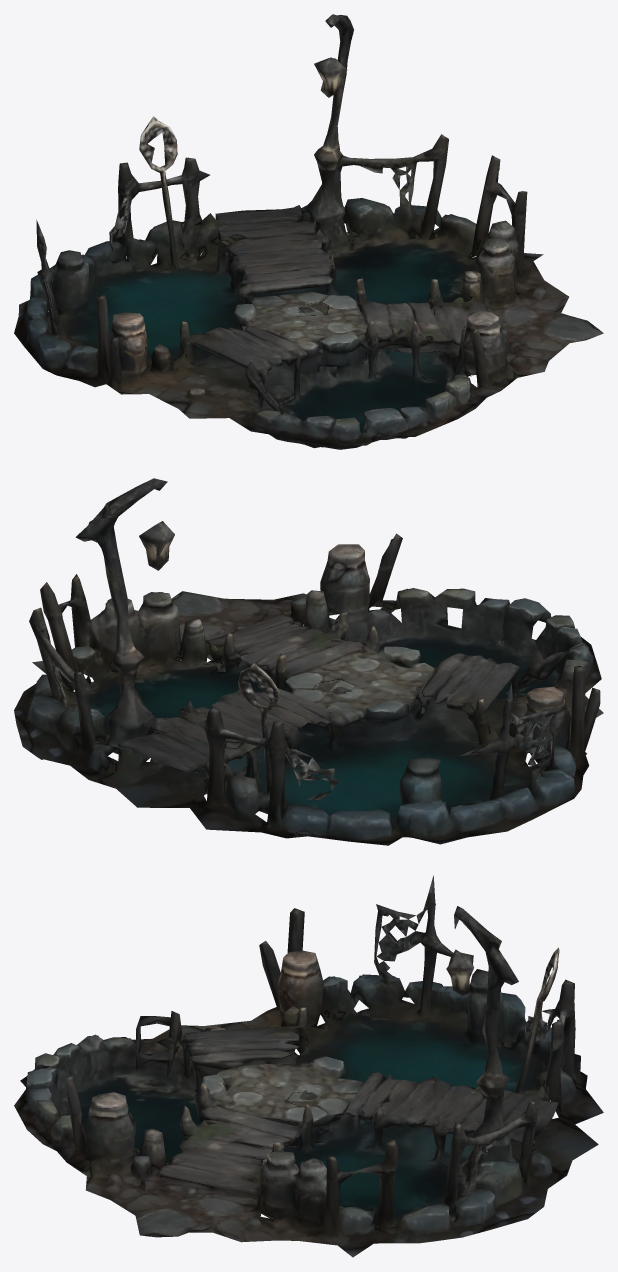
File: leech_pits.glb
The picture shows the model from 3 angles, top to bottom: view 1: azimuth 30°, elevation 25°; view 2: azimuth 150°, elevation 25°; view 3: azimuth 270°, elevation 25°; orthographic projection. The views are drawn at different scales.
Parts seen in each view (by area): view 1: geometry_0; view 2: geometry_0; view 3: geometry_0.
Part boxes in pixels (box(x1,y1,x2,y2)): geometry_0: box(14, 14, 603, 449); geometry_0: box(14, 478, 603, 845); geometry_0: box(14, 875, 603, 1257).
Bounding box in the file's own units: 0.9586 × 0.4945 × 0.909.
Materials: 1 (1 with a texture image).
